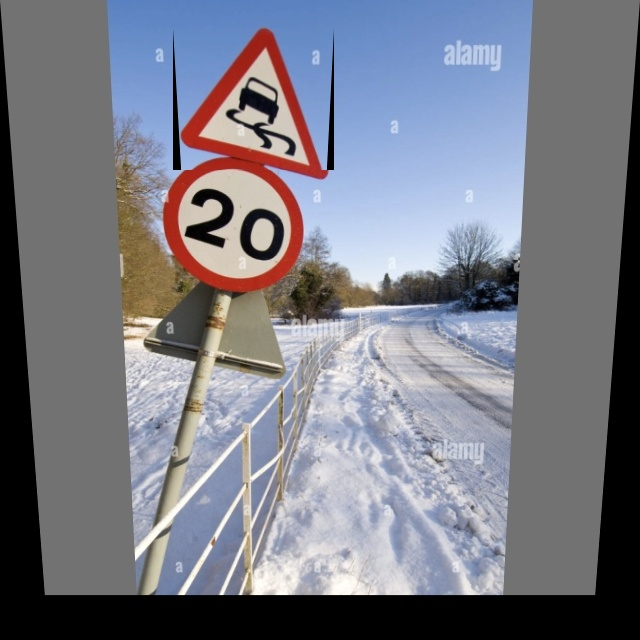Slippery_Road: (173, 28, 334, 170)
